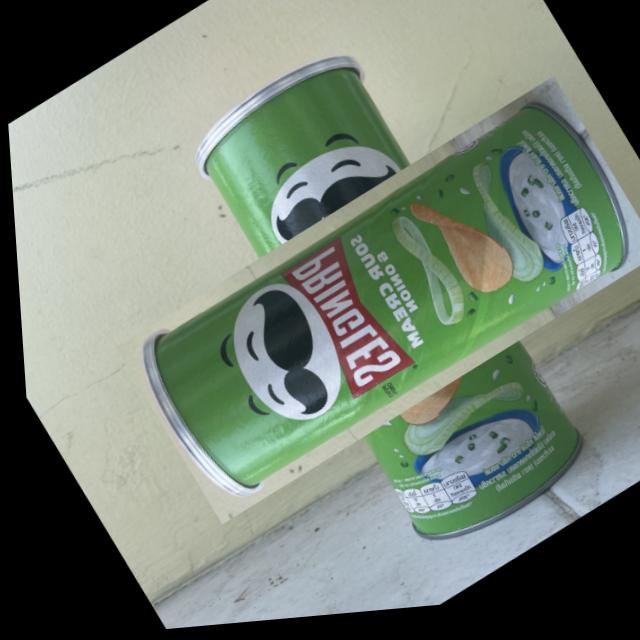a pringles: (129, 49, 638, 565)
